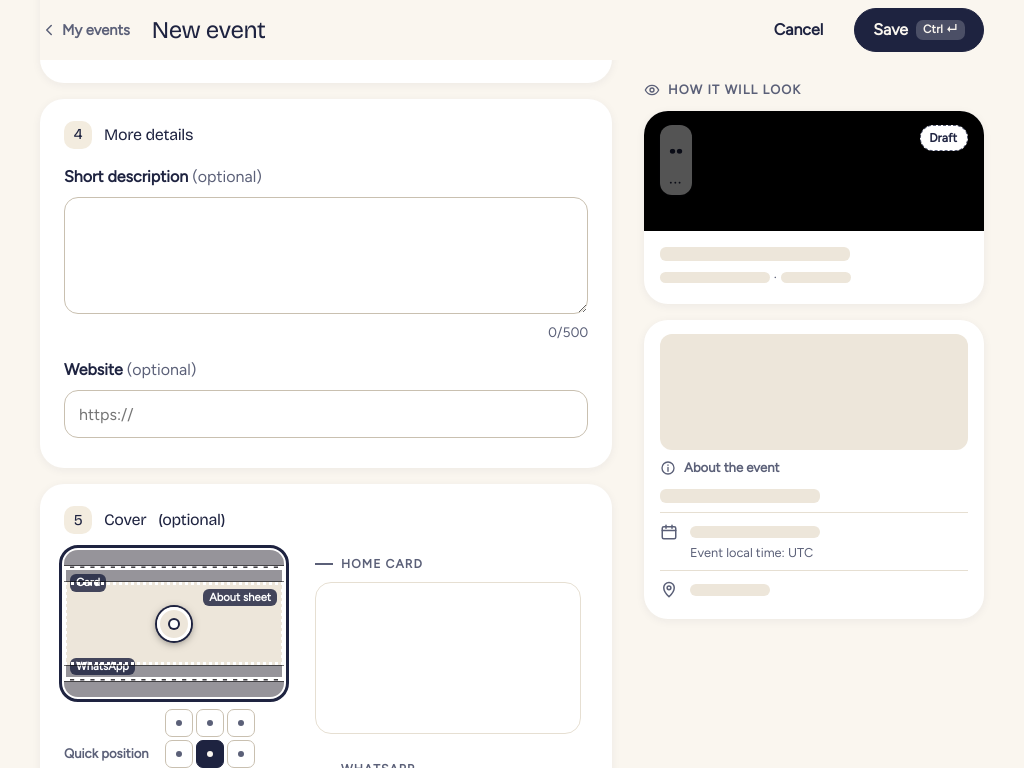
cover in the create form › moves the focal point with the keyboard and the quick grid
Earlier steps of the test are not shown.
(page scrolled)
Press Arrowright
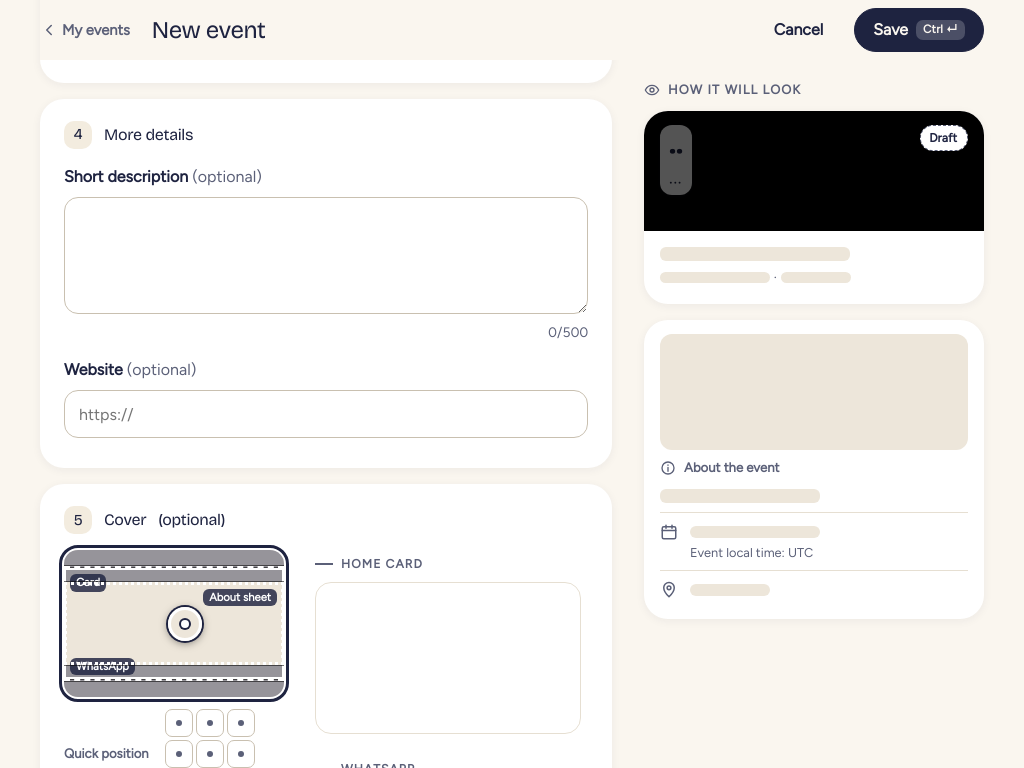
Now the button named "Middle" is not pressed, box left=196, top=740, right=224, bottom=767
Click the button named "Top left" at (179, 723), box left=165, top=709, right=193, bottom=737
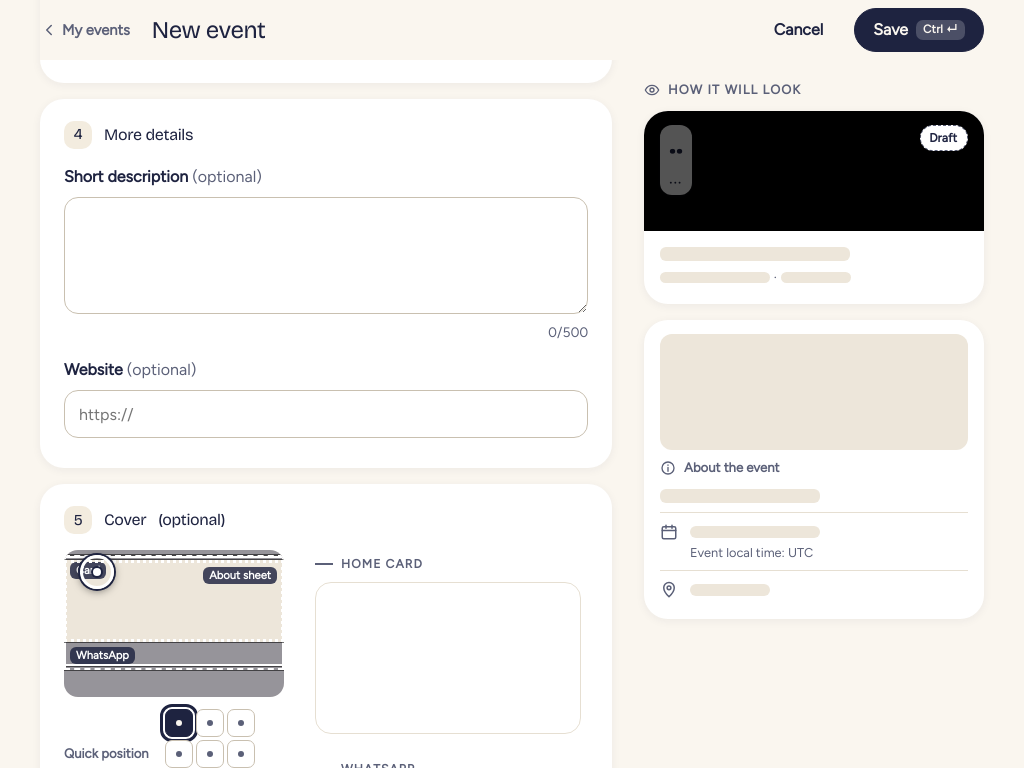
Now the button named "Top left" is pressed, box left=165, top=709, right=193, bottom=737
